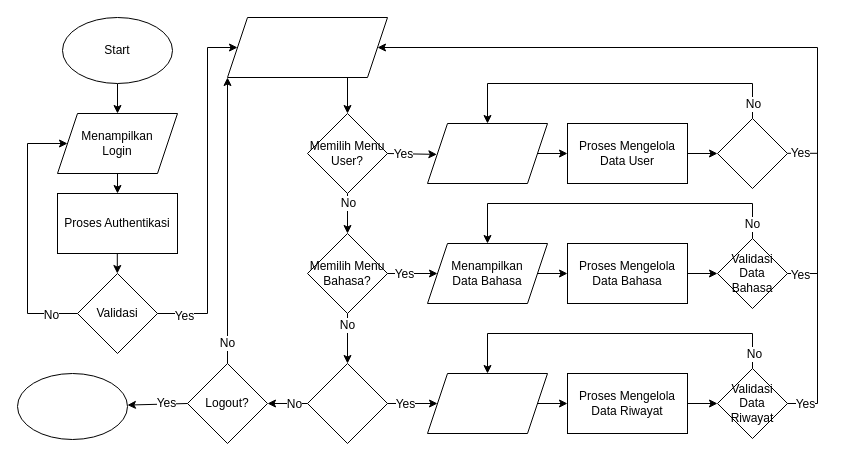
Image size: 843x461. Some labels were removed from this diagram. The centre of each missing label's shape, as x and y in pixels:
Akses Halaman Utama: [307,47]
End: [72,406]
Memilih Menu Riwayat?: [347,403]
Menampilkan Data Riwayat: [487,403]
Menampilkan Data User: [487,153]
Validasi Data User: [752,153]
